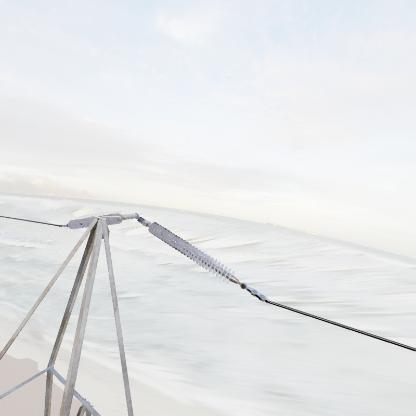insulator: (144, 218, 247, 287)
